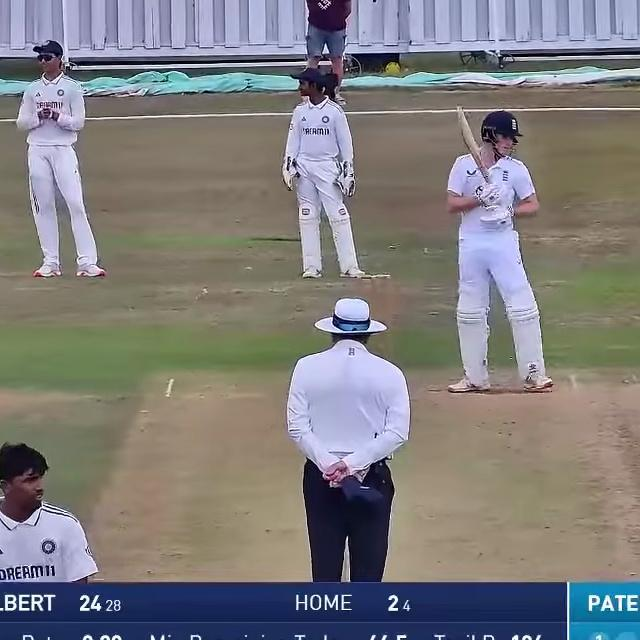umpire: (273, 288, 427, 584)
